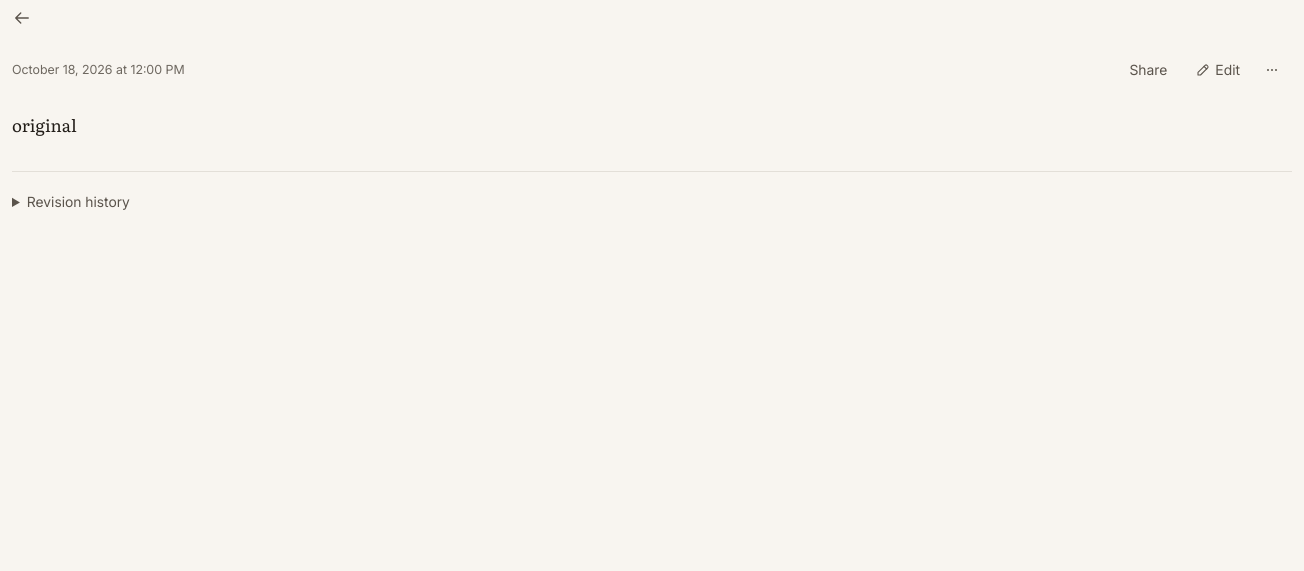
Test: the note page › names the real reason a save failed (status 0)
Click the button "Edit" at (1218, 70), box [1183,52,1252,88]
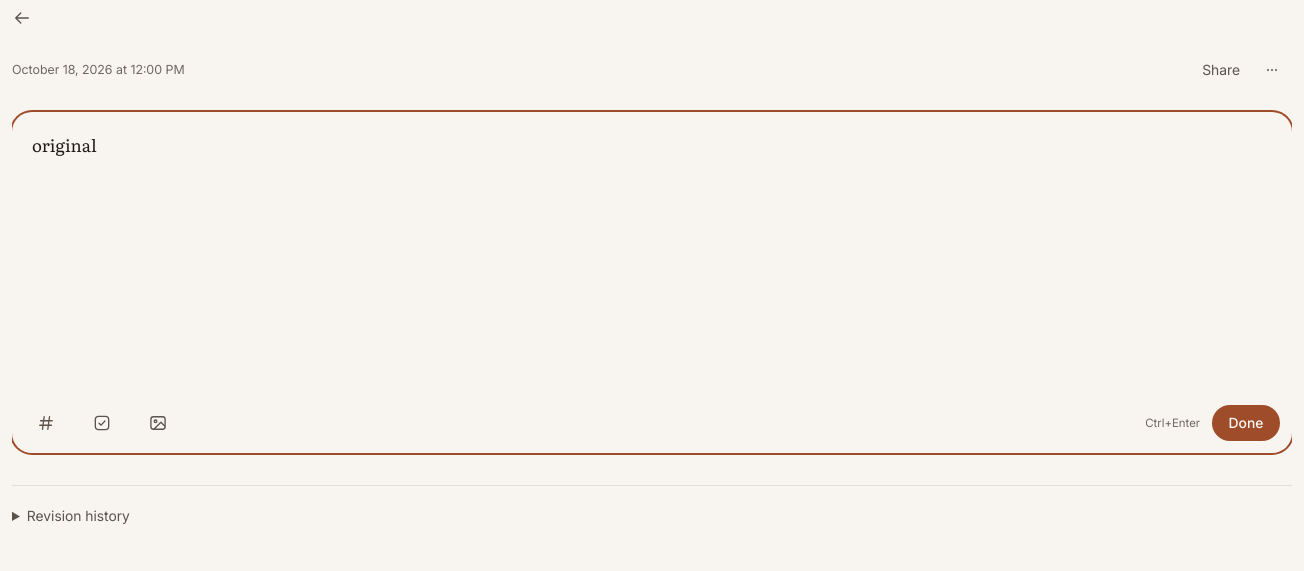
Replace the text in the text box named "Edit note" with "changed" at (652, 252), box [12,112,1292,392]
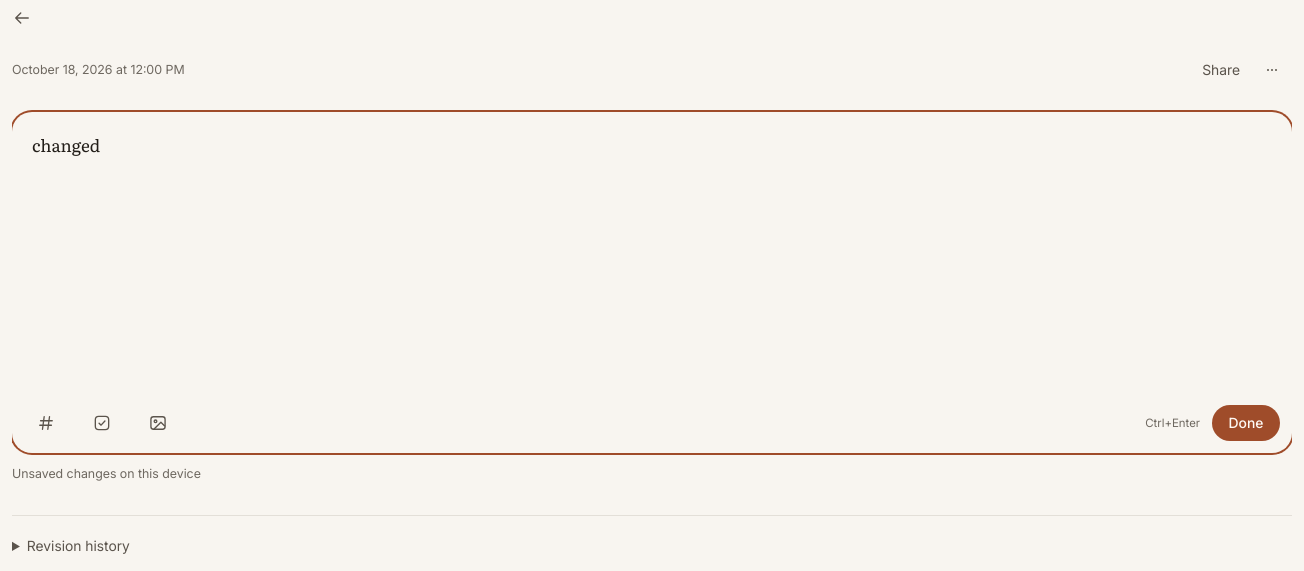
Click the button "Done" at (1246, 423), box [1212,405,1280,441]
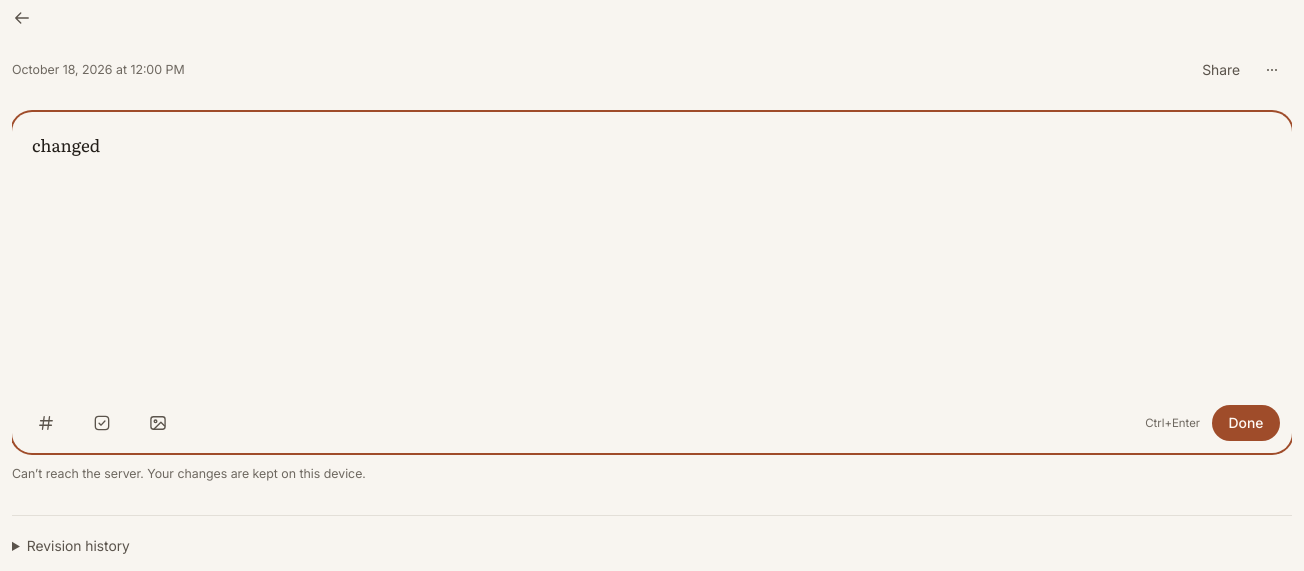
Check: the text "Can’t reach the server. Your changes are kept on this device." is shown, box [12,466,366,481]
